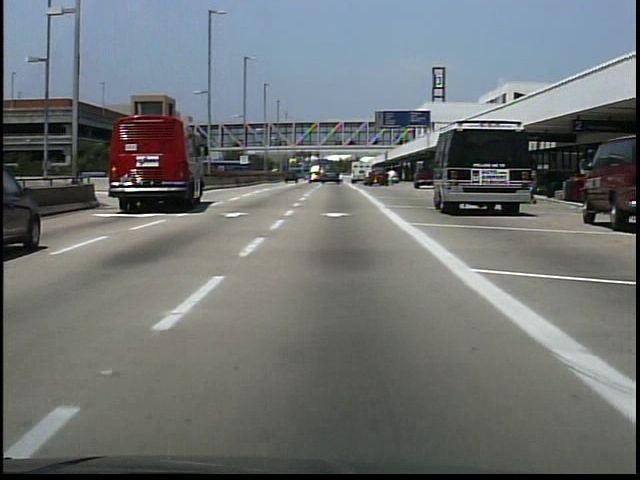car: (109, 109, 201, 211), (443, 131, 530, 209)
strada: (14, 196, 579, 461)
